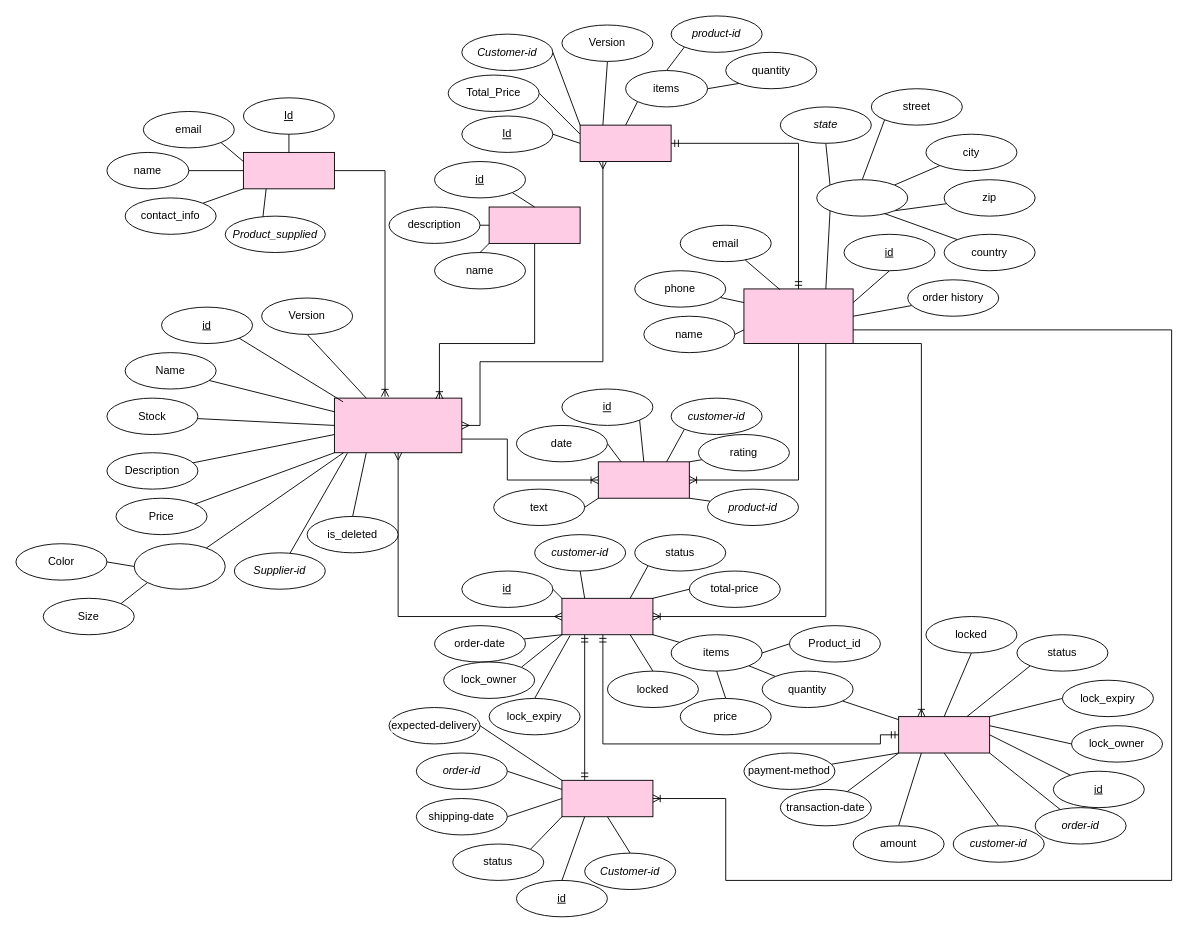
This 1195x933 diagram has some shape labels left out. The centre of each missing label's shape, as x and y in pixels:
Address: the point at 862,197
Attributes: the point at 179,566
Cart: the point at 625,143
Category: the point at 534,224
Customer: the point at 798,316
Order: the point at 607,616
Payment: the point at 944,734
Product: the point at 398,425
Reviews: the point at 643,479
Shipping: the point at 607,798
Supplier: the point at 288,170
